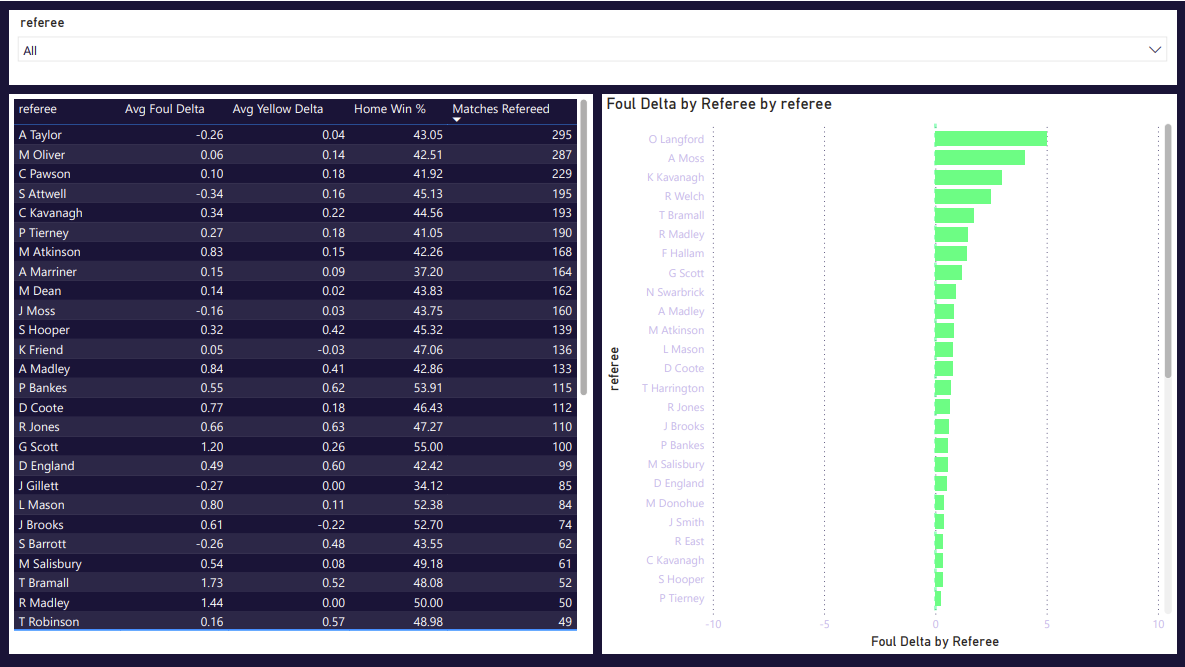

The page's visual inventory and layout, read from the dashboard file:
{"tool":"powerbi","page":{"name":"Page 2","canvas":[1280,720],"ordinal":1},"visuals":[{"type":"slicer","fields":{"Values":["matches.referee"]},"box":[10,10,1260,80],"z":0},{"type":"tableEx","fields":{"Values":["matches.referee","Avg(matches.foul_delta)","Avg(matches.yellow_delta)","matches.Home Win %","matches.ftr"]},"box":[10,100,630,604.3],"z":1000},{"type":"barChart","fields":{"Category":["matches.referee"],"Y":["Avg(matches.foul_delta)"]},"box":[650,100,620,604.3],"z":2000}]}

Visuals, with their boxes in screenshot pixels (x1, y1, x2, y2), scaled from the page's 1280x720 canvas onto the 1185x667 screenshot:
slicer - matches.referee: crop(9, 9, 1176, 83)
tableEx - matches.referee x Avg(matches.foul_delta): crop(9, 93, 592, 652)
barChart - matches.referee x Avg(matches.foul_delta): crop(602, 93, 1176, 652)
